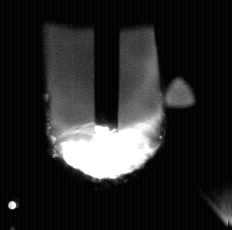arame: (96, 0, 120, 132)
poca: (52, 0, 163, 230)
